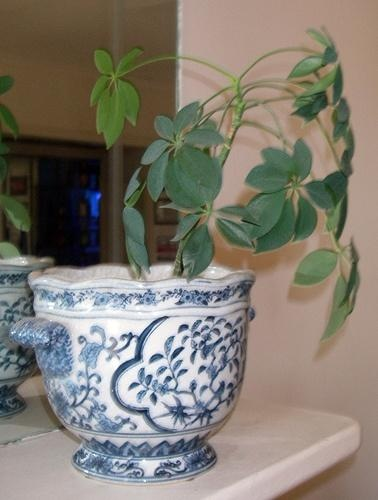pottedplant: (33, 23, 353, 482), (1, 72, 52, 417)
